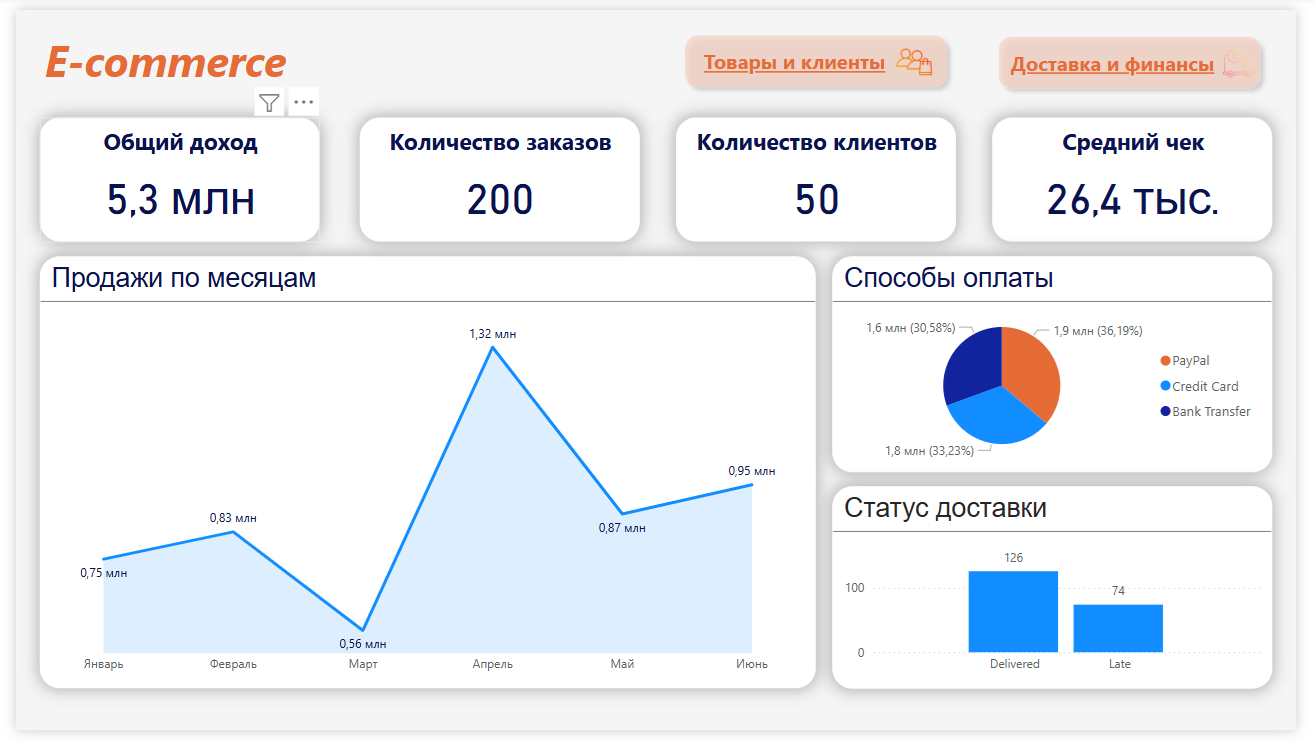

This screenshot's page, from the dashboard's own definition file:
{"tool":"powerbi","page":{"name":"Обзор","canvas":[1280,720],"ordinal":0},"visuals":[{"type":"card","title":"Средний чек","fields":{"Values":["orders.Average Order Value"]},"box":[976,108,280,124],"z":0},{"type":"lineChart","title":"Продажи по месяцам","fields":{"Category":["orders.OrderDate.Изменение.Иерархия дат.Месяц","orders.OrderDate.Изменение.Иерархия дат.День"],"Y":["orders.Total Revenue"]},"box":[24,246,776,432],"z":1000},{"type":"pieChart","title":"Способы оплаты","fields":{"Category":["payments.PaymentType"],"Y":["orders.Total Revenue"]},"box":[816,246,440,216],"z":2000},{"type":"columnChart","title":"Статус доставки","fields":{"Category":["logistics.DeliveryStatus"],"Y":["CountNonNull(logistics.OrderID)"]},"box":[816,476,440,202],"z":3000},{"type":"shape","box":[974,18,280,70],"z":4000},{"type":"textbox","box":[24.3,15.7,280,72.9],"z":5000},{"type":"card","title":"Количество клиентов","fields":{"Values":["orders.Total Customers"]},"box":[660,108,280,124],"z":6000},{"type":"card","title":"Количество заказов","fields":{"Values":["orders.Total Orders"]},"box":[344,108,280,124],"z":7000},{"type":"card","title":"Общий доход","fields":{"Values":["orders.Total Revenue"]},"box":[24,108,280,124],"z":8000},{"type":"shape","box":[660,16,280,70],"z":9000},{"type":"image","box":[875,29.3,46.4,46.4],"z":10000},{"type":"image","box":[1200.7,30.7,42.9,43.6],"z":11000}]}

Visuals, with their boxes in screenshot pixels (x1, y1, x2, y2), scaled from the page's 1280x720 canvas onto the 1314x742 screenshot:
"Средний чек" card: 1002 111 1289 239
"Продажи по месяцам" lineChart: 25 254 821 699
"Способы оплаты" pieChart: 838 254 1289 476
"Статус доставки" columnChart: 838 491 1289 699
shape: 1000 19 1287 91
textbox: 25 16 312 91
"Количество клиентов" card: 678 111 965 239
"Количество заказов" card: 353 111 641 239
"Общий доход" card: 25 111 312 239
shape: 678 16 965 89
image: 898 30 946 78
image: 1233 32 1277 77
